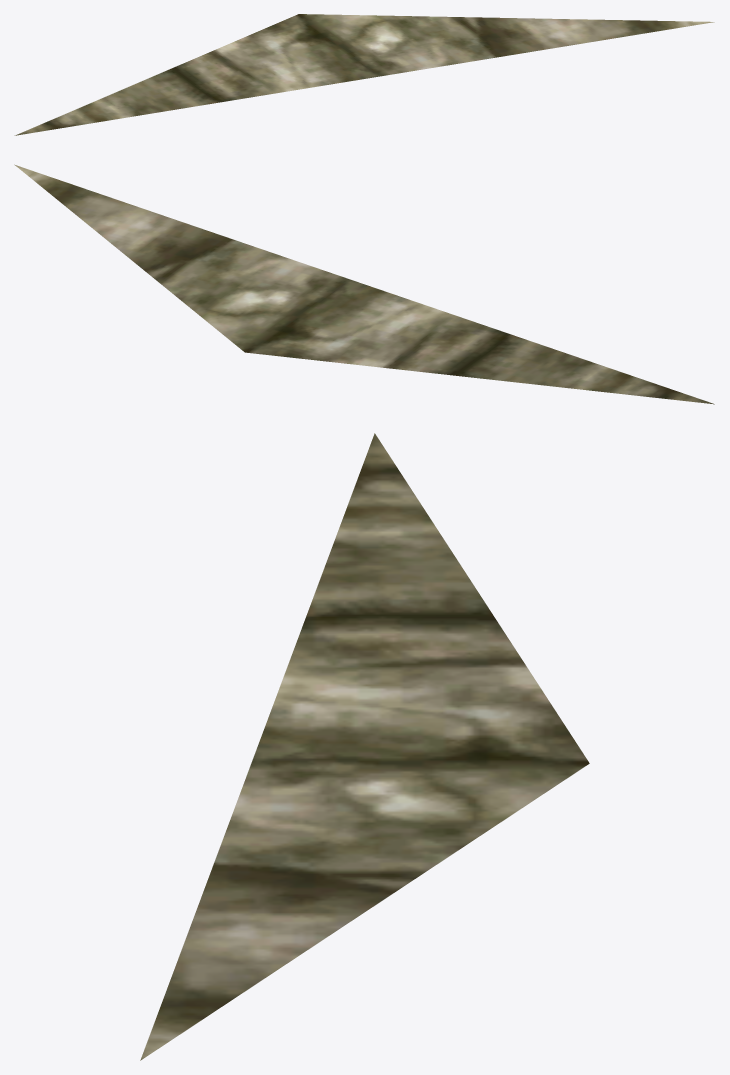
Rendered from CB_NEWPLAYSURFACE_CB_PLAYSURFACE102.fbx.
3 renders of one model, top to bottom at view 1: azimuth 30°, elevation 25°; view 2: azimuth 150°, elevation 25°; view 3: azimuth 270°, elevation 25°, orthographic. The views are drawn at different scales.
Visible parts, largest first — view 1: CB_NEWPLAYSURFACE_CB_PLAYSURFACE102; view 2: CB_NEWPLAYSURFACE_CB_PLAYSURFACE102; view 3: CB_NEWPLAYSURFACE_CB_PLAYSURFACE102.
Part boxes in pixels (box(x1,y1,x2,y2)): CB_NEWPLAYSURFACE_CB_PLAYSURFACE102: box(14, 14, 714, 135); CB_NEWPLAYSURFACE_CB_PLAYSURFACE102: box(14, 164, 714, 404); CB_NEWPLAYSURFACE_CB_PLAYSURFACE102: box(140, 433, 589, 1060).
Size of the model in its own units: 88636 by 0.00437 by 26824.
1 material, 1 textured.
